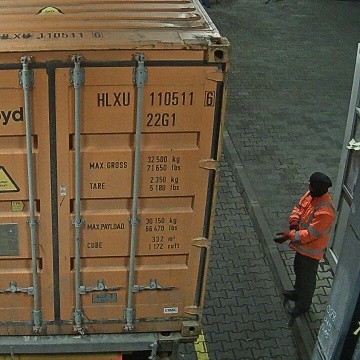serial_id: (97, 92, 213, 106)
